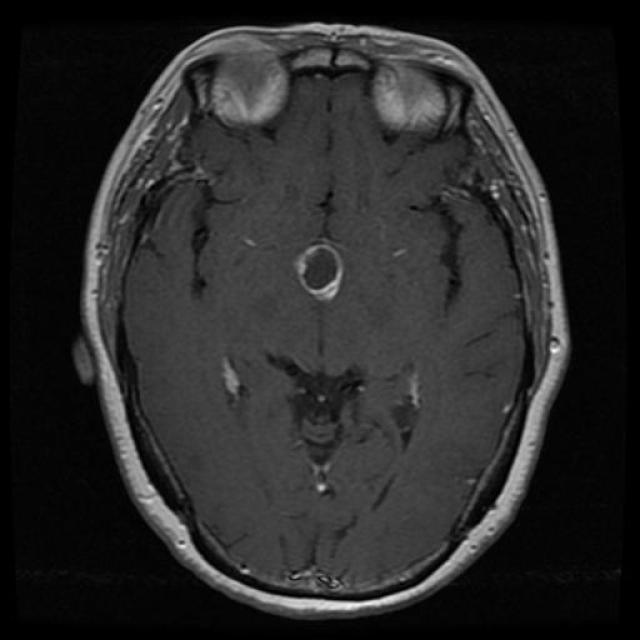pituitary: (280, 237, 384, 314)
